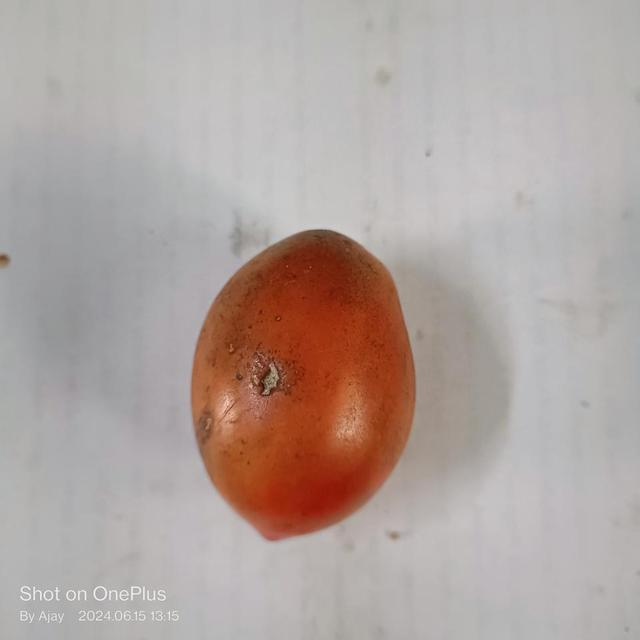Bacterial Spot Fruit: (6, 6, 185, 248)
